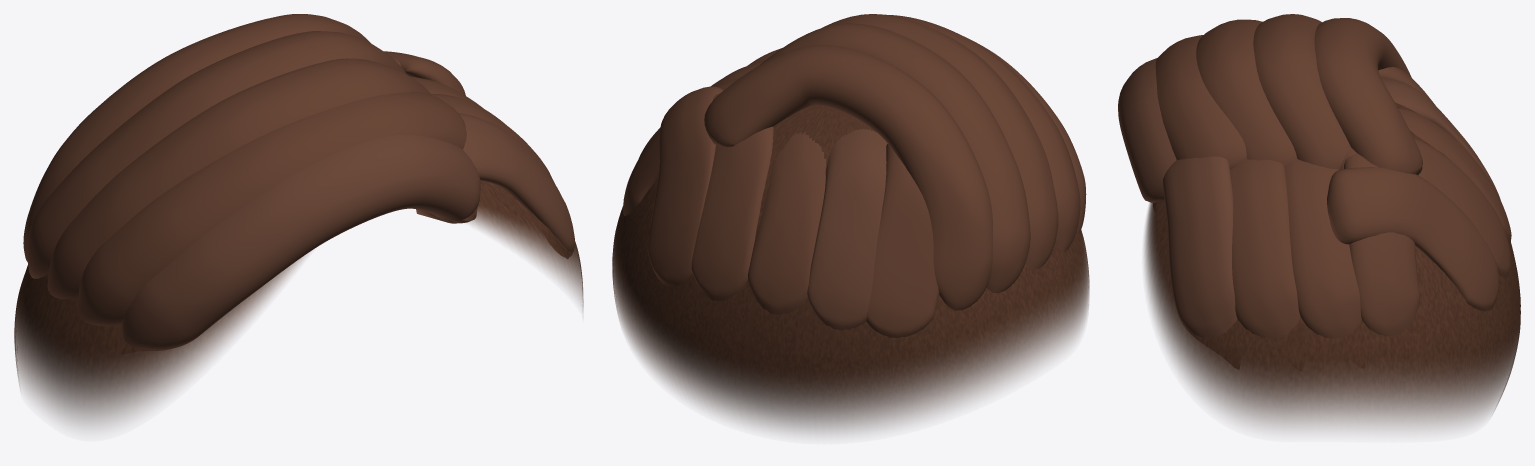
The model's file is Masculine-taper-hair252.glb.
3 renders of one model, left to right at view 1: azimuth 30°, elevation 25°; view 2: azimuth 150°, elevation 25°; view 3: azimuth 270°, elevation 25°, orthographic. The views are drawn at different scales.
Visible parts, largest first — view 1: 226 hair / Hair252 / sculpted locks, 226 hair / Hair252 / gentle tonal variation, 226 hair / Hair252 / restored153 fade coverage; view 2: 226 hair / Hair252 / sculpted locks, 226 hair / Hair252 / restored153 fade coverage, 226 hair / Hair252 / gentle tonal variation; view 3: 226 hair / Hair252 / sculpted locks, 226 hair / Hair252 / restored153 fade coverage, 226 hair / Hair252 / gentle tonal variation.
Part boxes in pixels (<box>): 226 hair / Hair252 / sculpted locks: <box>23,14,554,325</box>; 226 hair / Hair252 / gentle tonal variation: <box>121,113,574,350</box>; 226 hair / Hair252 / restored153 fade coverage: <box>14,180,583,426</box>; 226 hair / Hair252 / sculpted locks: <box>623,14,1080,338</box>; 226 hair / Hair252 / restored153 fade coverage: <box>612,105,1089,434</box>; 226 hair / Hair252 / gentle tonal variation: <box>747,36,1086,330</box>; 226 hair / Hair252 / sculpted locks: <box>1155,14,1511,338</box>; 226 hair / Hair252 / restored153 fade coverage: <box>1144,101,1520,429</box>; 226 hair / Hair252 / gentle tonal variation: <box>1118,58,1500,337</box>.
Size of the model in its own units: 0.976 by 0.7527 by 0.7562.
3 materials, 1 textured.
